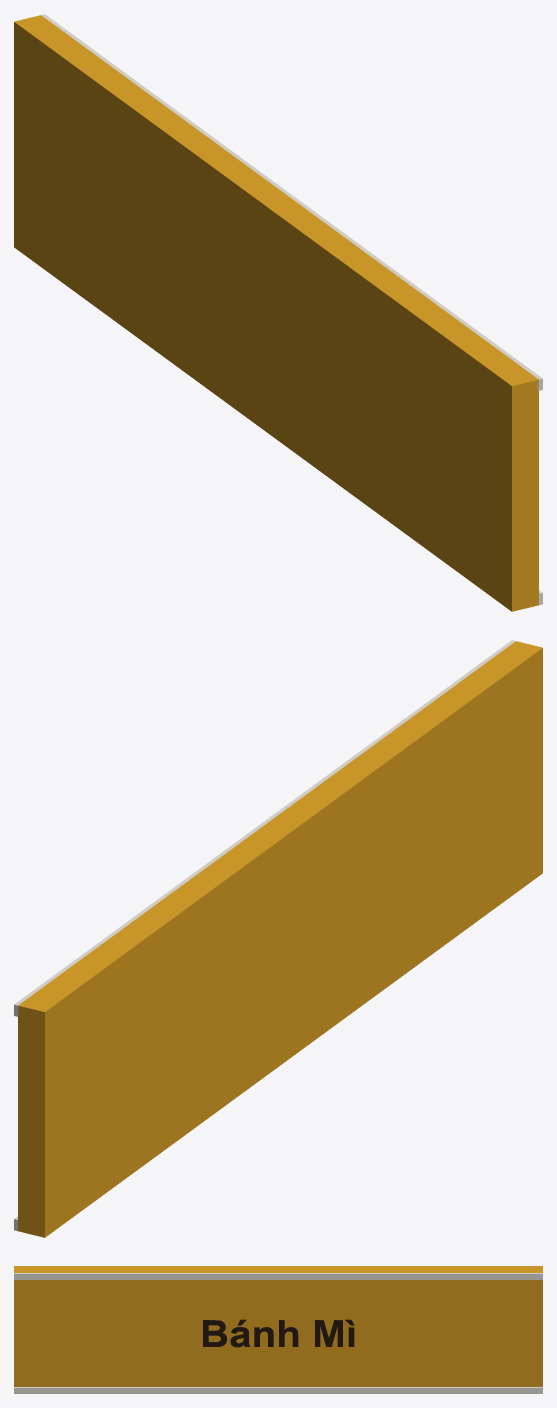
The model's file is OW_Mau_Bang_7_0_2.fbx.
3 views of the same model, one above another, from view 1: azimuth 30°, elevation 25°; view 2: azimuth 150°, elevation 25°; view 3: azimuth 270°, elevation 25° (orthographic). The views are drawn at different scales.
Parts seen in each view (by area): view 1: OW_Bang_Bánh Mì.004; view 2: OW_Bang_Bánh Mì.004; view 3: OW_Bang_Bánh Mì.004, Chữ • Bánh Mì.004_Mesh.
Boxes of the visible parts, x1,y1,x2,y2 form: OW_Bang_Bánh Mì.004: (14,14,542,611); OW_Bang_Bánh Mì.004: (14,640,542,1237); OW_Bang_Bánh Mì.004: (14,1266,542,1393); Chữ • Bánh Mì.004_Mesh: (203,1319,354,1347).
Size of the model in its own units: 0.24 by 1.6 by 6.4.
